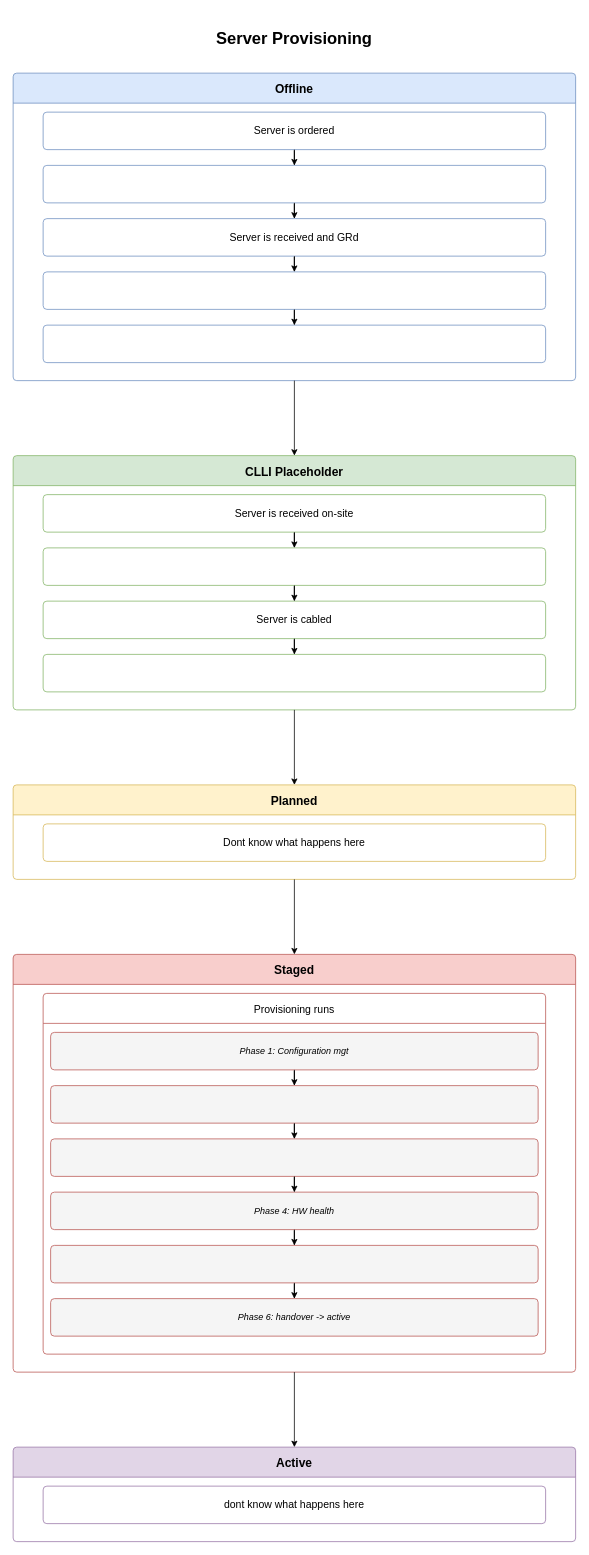
This 589x1555 diagram has some shape labels left out. The shapes that lost their labels are listed below. From the top down, each one's centre as x and y in pixels, then its label:
At point (294, 184): "Server is in transit".
At point (294, 290): "Factory output file is loaded to NetBox".
At point (294, 343): "Server is assigned to tenant or baremetal-reserve tenant".
At point (294, 566): "Server is racked".
At point (294, 673): "Server is powered on".
At point (294, 1104): "Phase 2: Deployment".
At point (294, 1157): "Phase 3: Verification & network discovery".
At point (294, 1264): "Phase 5: TOR enablement".
